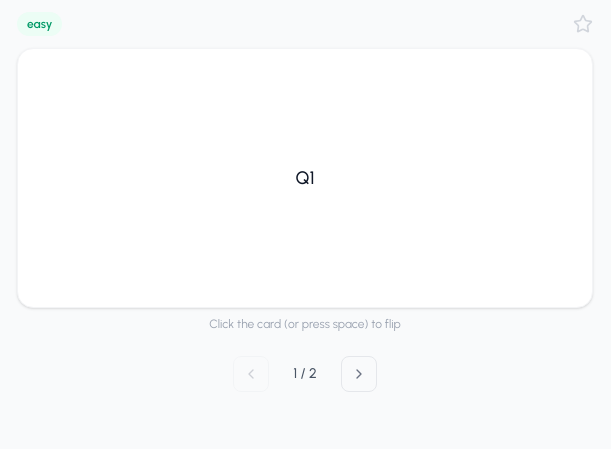
Test case: FlashcardViewer › grades the card and advances to the next one on a grade click
The image size is (611, 449).
Click the button "Q1" at (305, 178), box [17, 48, 593, 308]
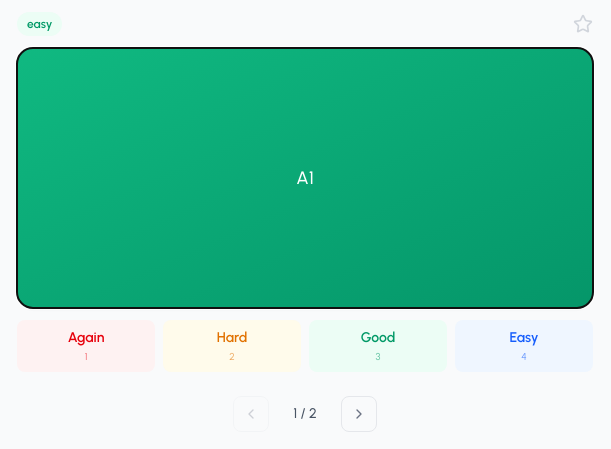
Click the button "Good 3" at (378, 346), box [309, 320, 447, 372]
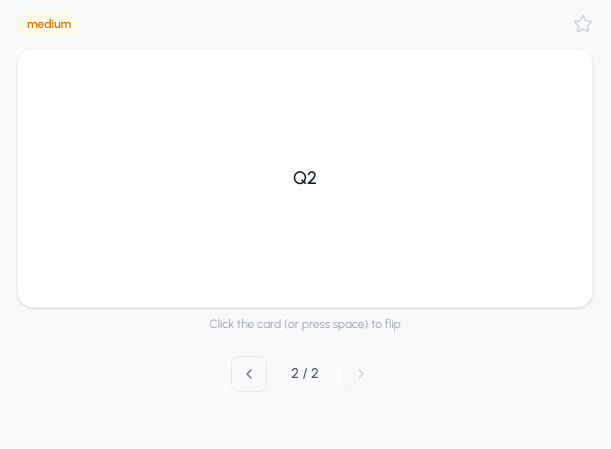
Now the text "Q2" is shown, box [293, 164, 317, 192]
